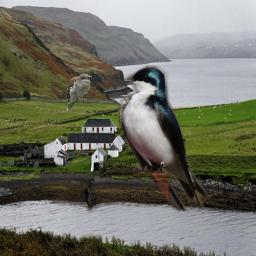Cuckoo: (65, 73, 92, 112)
Swallow: (117, 65, 207, 211)
